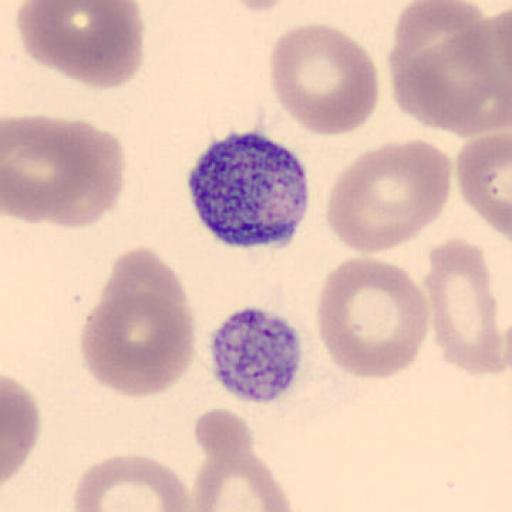Platelet: (185, 128, 313, 252), (205, 303, 306, 406)
RBC: (80, 246, 196, 401), (325, 138, 453, 256), (316, 254, 431, 382), (2, 114, 119, 228), (391, 28, 512, 138), (267, 23, 380, 138), (78, 289, 196, 398), (16, 0, 145, 93), (422, 239, 505, 376), (34, 116, 127, 230), (389, 0, 489, 100), (1, 115, 84, 225), (446, 7, 512, 137), (72, 453, 193, 512), (190, 447, 294, 512), (455, 129, 512, 241), (461, 6, 512, 126), (193, 408, 255, 485), (1, 373, 40, 486), (222, 0, 324, 14), (458, 0, 512, 23), (224, 0, 295, 13)
